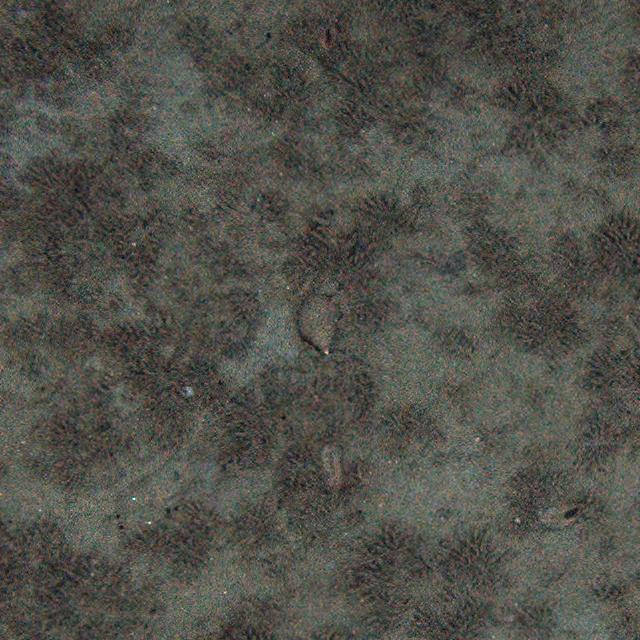whelk: (302, 287, 342, 359)
